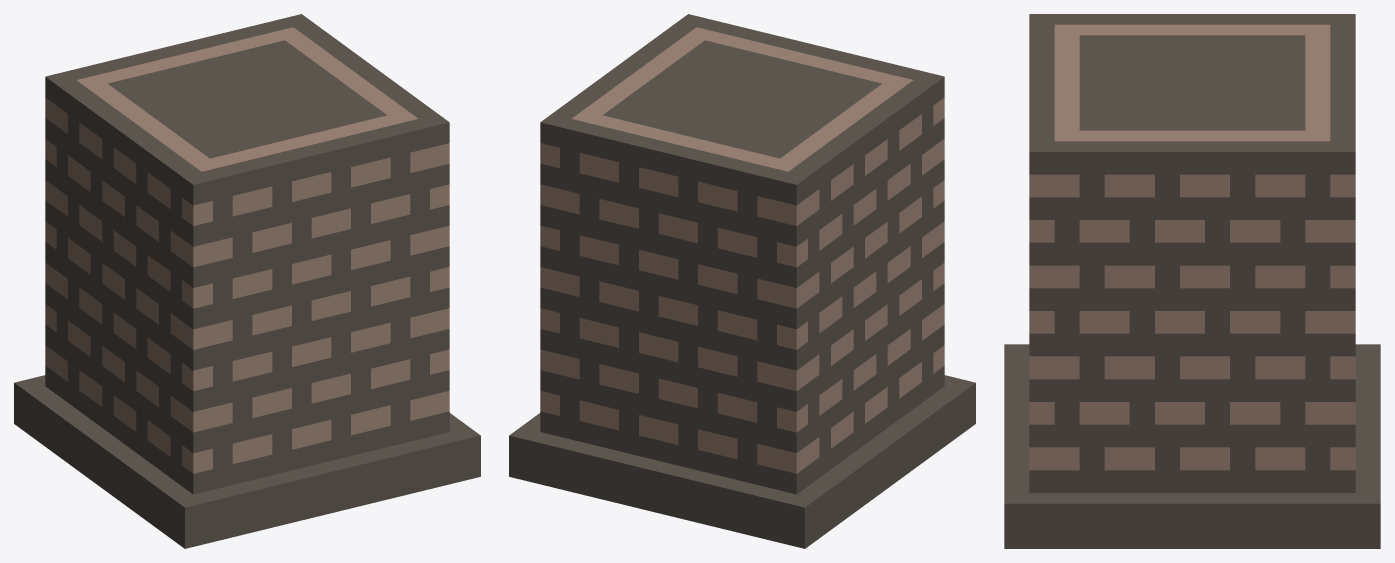
Rendered from dungeon_a_a_inner_wall_solo.obj.
3 renders of one model, left to right at view 1: azimuth 30°, elevation 25°; view 2: azimuth 150°, elevation 25°; view 3: azimuth 270°, elevation 25°, orthographic. The views are drawn at different scales.
Bounding box in the file's own units: 1.5 × 1.7 × 1.5.
1 material, 1 textured.
